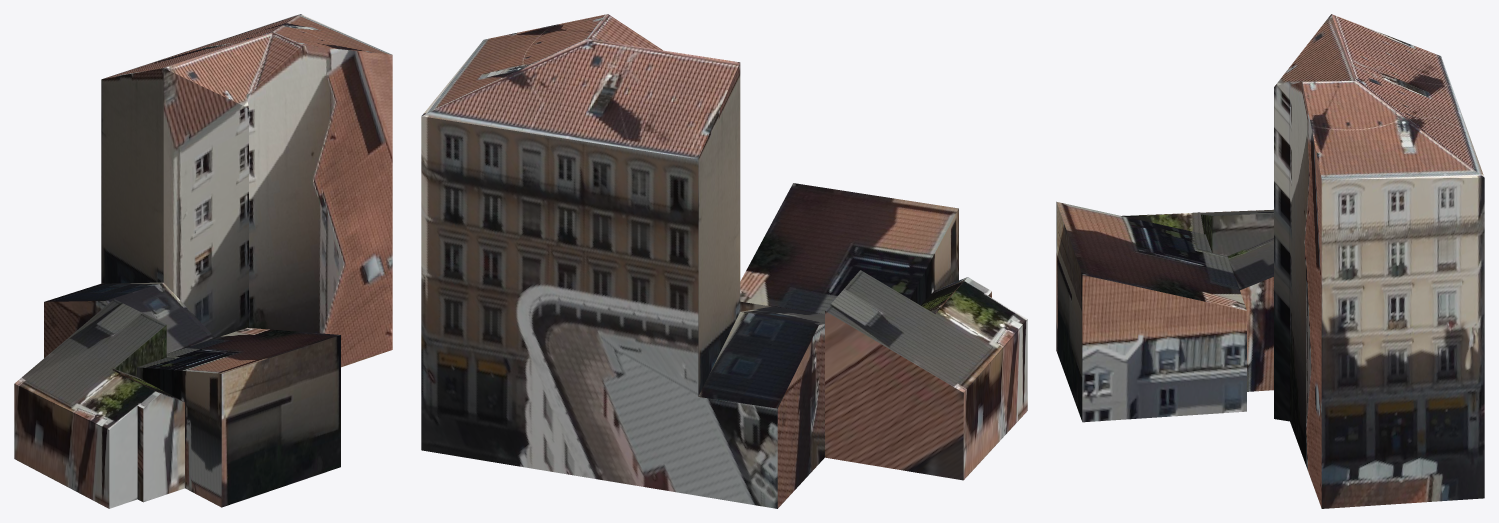
The picture shows the model from 3 angles, left to right: view 1: azimuth 30°, elevation 25°; view 2: azimuth 150°, elevation 25°; view 3: azimuth 270°, elevation 25°; orthographic projection. The views are drawn at different scales.
Parts seen in each view (by area): view 1: Z_UP; view 2: Z_UP; view 3: Z_UP.
Part boxes in pixels (left/top/right/bottom): Z_UP: left=14, top=14, right=392, bottom=508; Z_UP: left=421, top=14, right=1027, bottom=508; Z_UP: left=1056, top=14, right=1484, bottom=508.
Bounding box in the file's own units: 30.8 × 24.91 × 25.86.
Materials: 2 (1 with a texture image).
